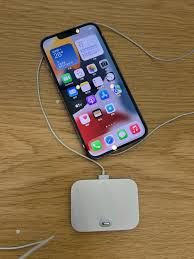Smartphone: (36, 23, 157, 164)
